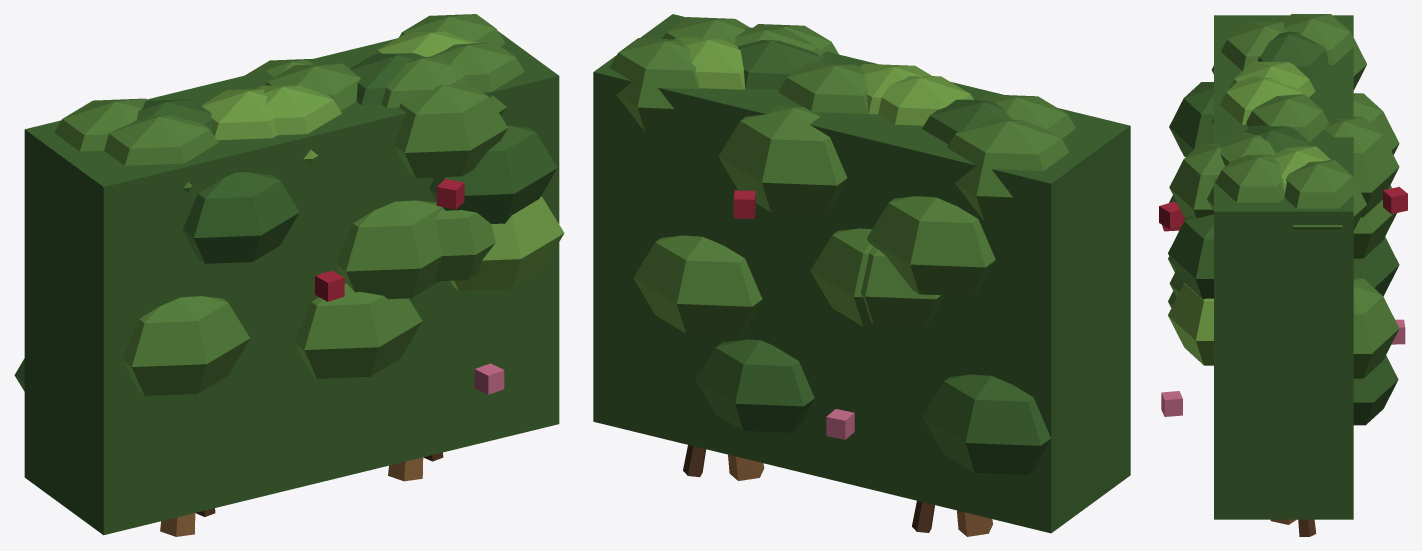
Rendered from hedge_straight.glb.
3 views of the same model, side by side, from view 1: azimuth 30°, elevation 25°; view 2: azimuth 150°, elevation 25°; view 3: azimuth 270°, elevation 25° (orthographic). The views are drawn at different scales.
Visible parts, largest first — view 1: wall_hedge_straight; view 2: wall_hedge_straight; view 3: wall_hedge_straight.
Part boxes in pixels (left/top/right/bottom): wall_hedge_straight: left=14, top=14, right=564, bottom=536; wall_hedge_straight: left=593, top=14, right=1130, bottom=536; wall_hedge_straight: left=1159, top=14, right=1407, bottom=536.
Bounding box in the file's own units: 2 × 1.81 × 1.07.
